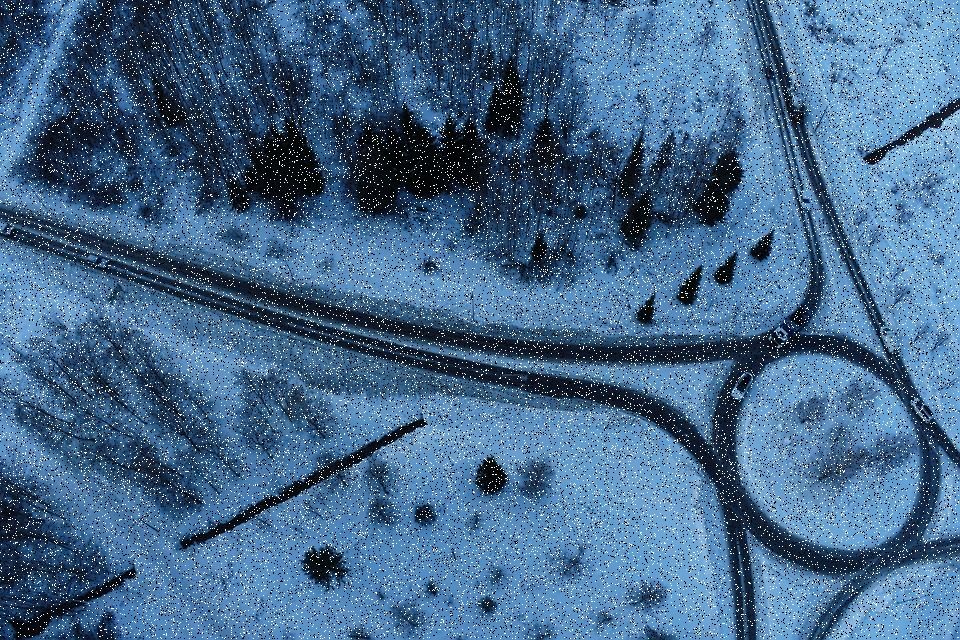roundabout: (686, 316, 960, 597)
